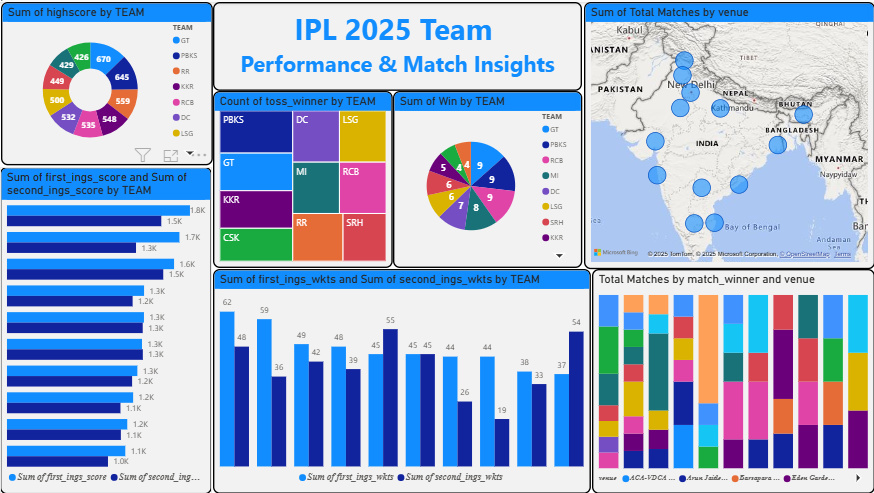

The dashboard page shown, as its layout file describes it:
{"tool":"powerbi","page":{"name":"IPL_Matches","canvas":[1280,720],"ordinal":0},"visuals":[{"type":"clusteredBarChart","fields":{"Category":["Team.TEAM"],"Y":["Sum(matches.first_ings_score)","Sum(matches.second_ings_score)"]},"box":[0,241.5,310.2,478.5],"z":0},{"type":"clusteredColumnChart","fields":{"Category":["Team.TEAM"],"Y":["Sum(matches.first_ings_wkts)","Sum(matches.second_ings_wkts)"]},"box":[311.7,390.7,553.2,329.3],"z":1000},{"type":"treemap","fields":{"Group":["Team.TEAM"],"Values":["CountNonNull(matches.toss_winner)"]},"box":[311.7,130.2,263.4,259],"z":2000},{"type":"pieChart","fields":{"Category":["Team.TEAM"],"Y":["Sum(matches.highscore)"]},"box":[0,0,310.2,238.5],"z":3000},{"type":"hundredPercentStackedColumnChart","fields":{"Category":["matches.match_winner"],"Y":["Table1.Total Matches"],"Series":["matches.venue"]},"box":[866.3,390.7,414.1,329.3],"z":4000},{"type":"map","fields":{"Category":["matches.venue"],"Size":["Sum(Team.Total Matches)"]},"box":[854.6,0,425.9,390.7],"z":5000},{"type":"textbox","box":[311.7,0,540,130.2],"z":6000},{"type":"pieChart","fields":{"Y":["Sum(Team.Win)"],"Category":["Team.TEAM"]},"box":[575,130,277,259],"z":7000}]}

Visuals, with their boxes in screenshot pixels (x1, y1, x2, y2), scaled from the page's 1280x720 canvas onto the 874x493 screenshot:
clusteredBarChart - Team.TEAM x Sum(matches.first_ings_score): box(0, 165, 212, 492)
clusteredColumnChart - Team.TEAM x Sum(matches.first_ings_wkts): box(213, 268, 591, 492)
treemap - Team.TEAM x CountNonNull(matches.toss_winner): box(213, 89, 393, 266)
pieChart - Team.TEAM x Sum(matches.highscore): box(0, 0, 212, 163)
hundredPercentStackedColumnChart - matches.match_winner x Table1.Total Matches: box(592, 268, 873, 492)
map - matches.venue x Sum(Team.Total Matches): box(584, 0, 873, 268)
textbox: box(213, 0, 582, 89)
pieChart - Sum(Team.Win) x Team.TEAM: box(393, 89, 582, 266)
